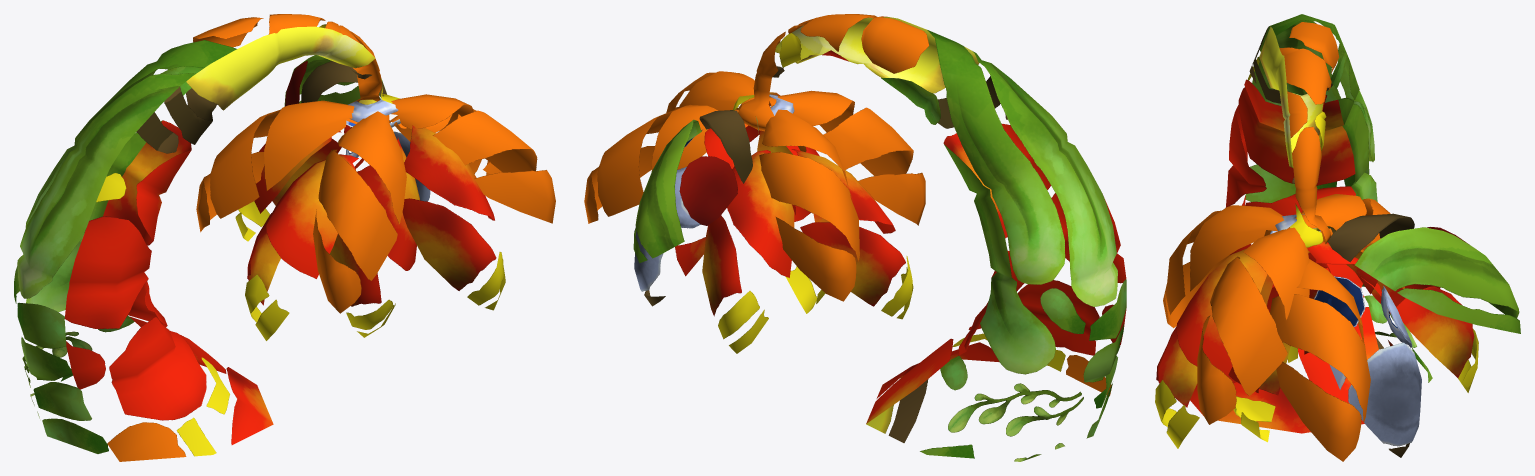
Rendered from Mode_Bananier_Pollue.fbx.
The picture shows the model from 3 angles, left to right: view 1: azimuth 30°, elevation 25°; view 2: azimuth 150°, elevation 25°; view 3: azimuth 270°, elevation 25°; orthographic projection. The views are drawn at different scales.
Parts seen in each view (by area): view 1: bananier_pollue; view 2: bananier_pollue; view 3: bananier_pollue.
Boxes of the visible parts, x1,y1,x2,y2 form: bananier_pollue: [14, 14, 555, 461]; bananier_pollue: [584, 14, 1126, 461]; bananier_pollue: [1155, 14, 1520, 461].
Bounding box in the file's own units: 435 × 299 × 250.
